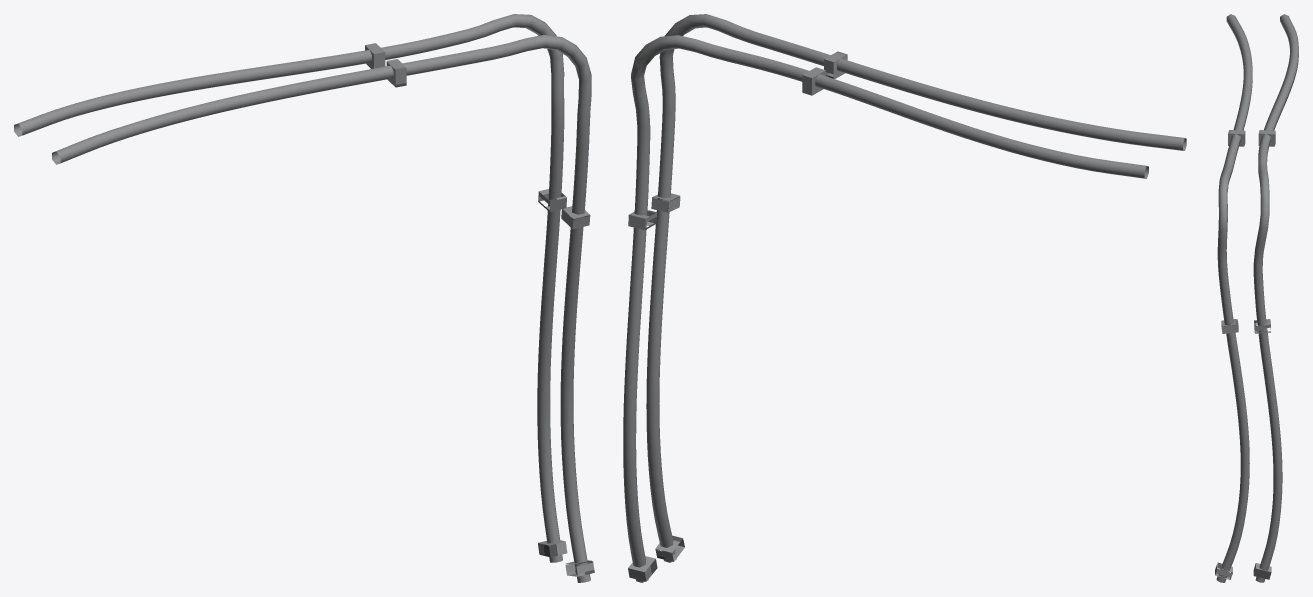
3 renders of one model, left to right at view 1: azimuth 30°, elevation 25°; view 2: azimuth 150°, elevation 25°; view 3: azimuth 270°, elevation 25°, orthographic. The views are drawn at different scales.
Bounding box in the file's own units: 1.01 × 1.01 × 0.1963.
